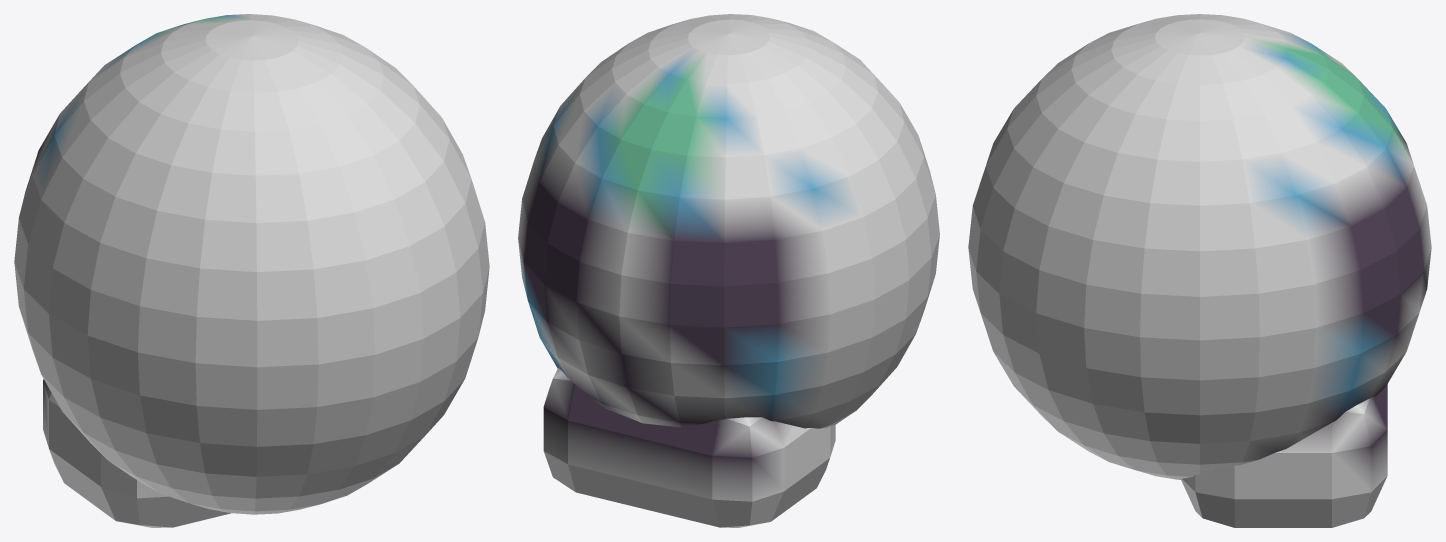
The model's file is calavera_b.glb.
3 renders of one model, left to right at view 1: azimuth 30°, elevation 25°; view 2: azimuth 150°, elevation 25°; view 3: azimuth 270°, elevation 25°, orthographic. The views are drawn at different scales.
Parts seen in each view (by area): view 1: Calavera; view 2: Calavera; view 3: Calavera.
Part boxes in pixels (x1,y1,x2,y2): Calavera: [14, 14, 489, 527]; Calavera: [518, 14, 939, 527]; Calavera: [968, 14, 1431, 527].
Size of the model in its own units: 0.095 by 0.1085 by 0.1.
